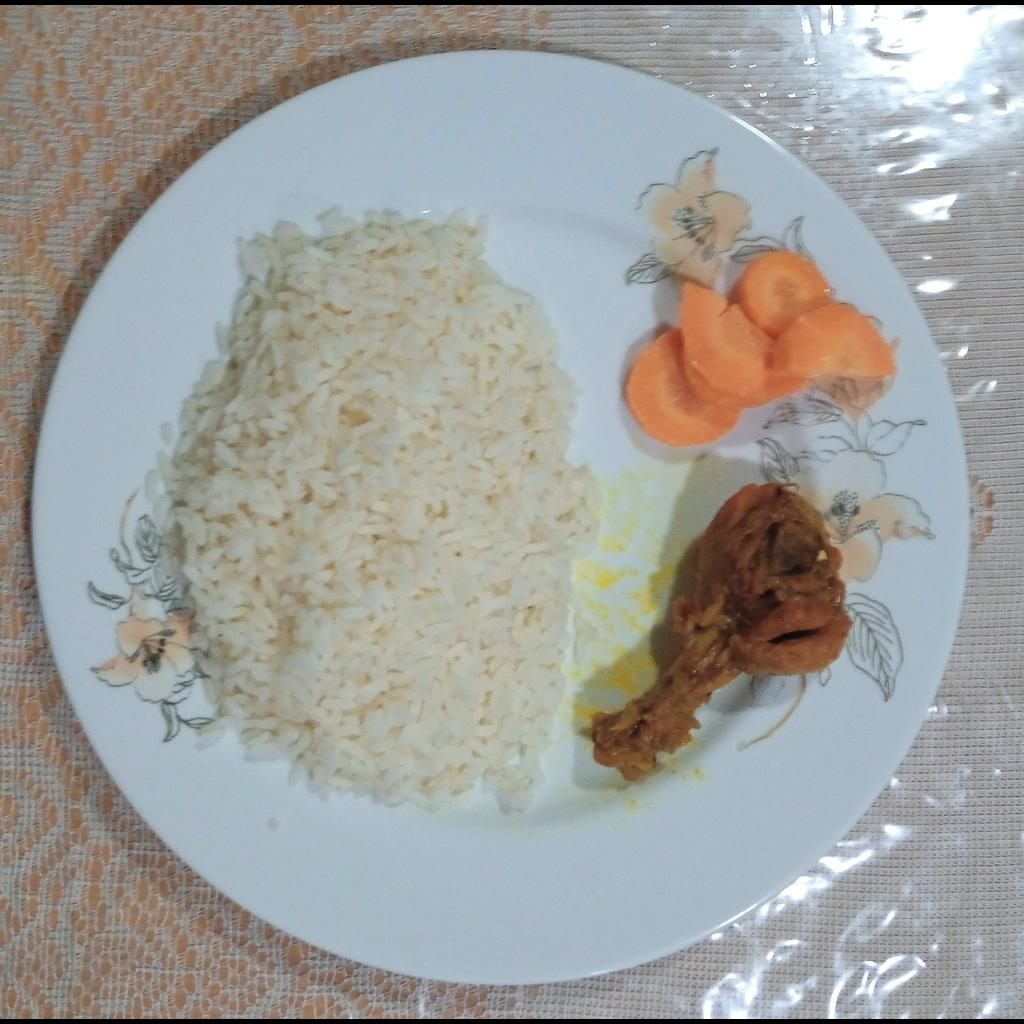carrot: (625, 248, 899, 448)
chicken: (593, 482, 851, 782)
rice: (146, 207, 598, 818)
